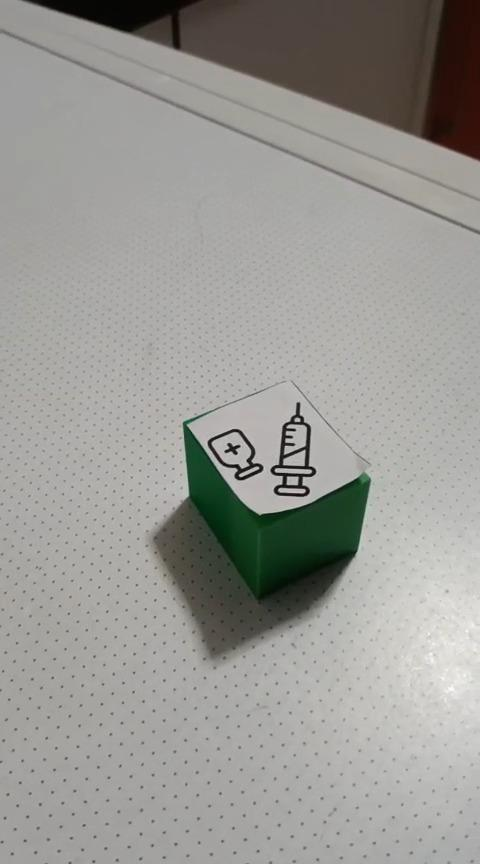antiseptic cream: (181, 378, 372, 600)
